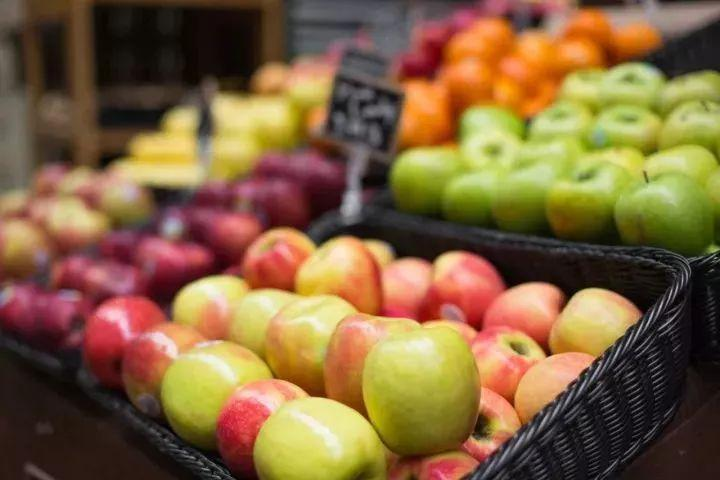apple: (364, 327, 482, 459), (255, 392, 382, 477), (164, 342, 271, 439), (213, 377, 310, 474), (268, 295, 361, 396), (325, 314, 419, 413), (613, 171, 718, 255), (122, 319, 208, 415), (81, 292, 164, 383), (547, 152, 628, 242), (294, 237, 383, 317), (546, 288, 643, 354), (485, 274, 563, 353), (425, 250, 504, 327), (472, 325, 547, 401), (239, 226, 315, 291)
